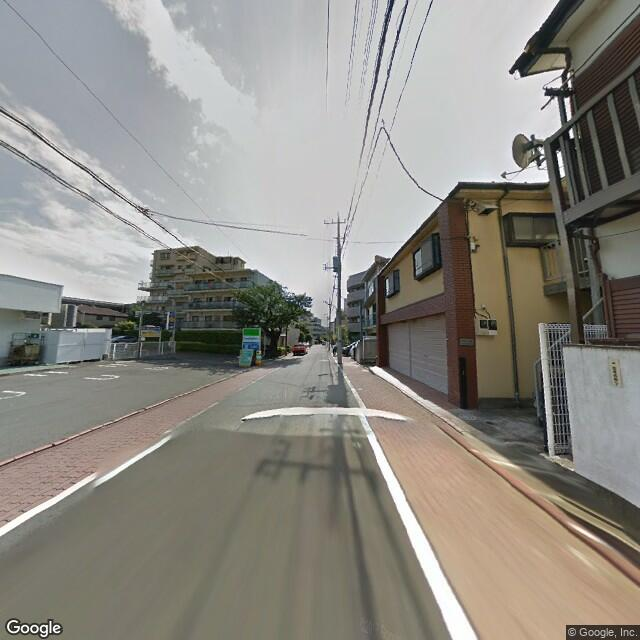family_mart: (238, 324, 263, 357)
